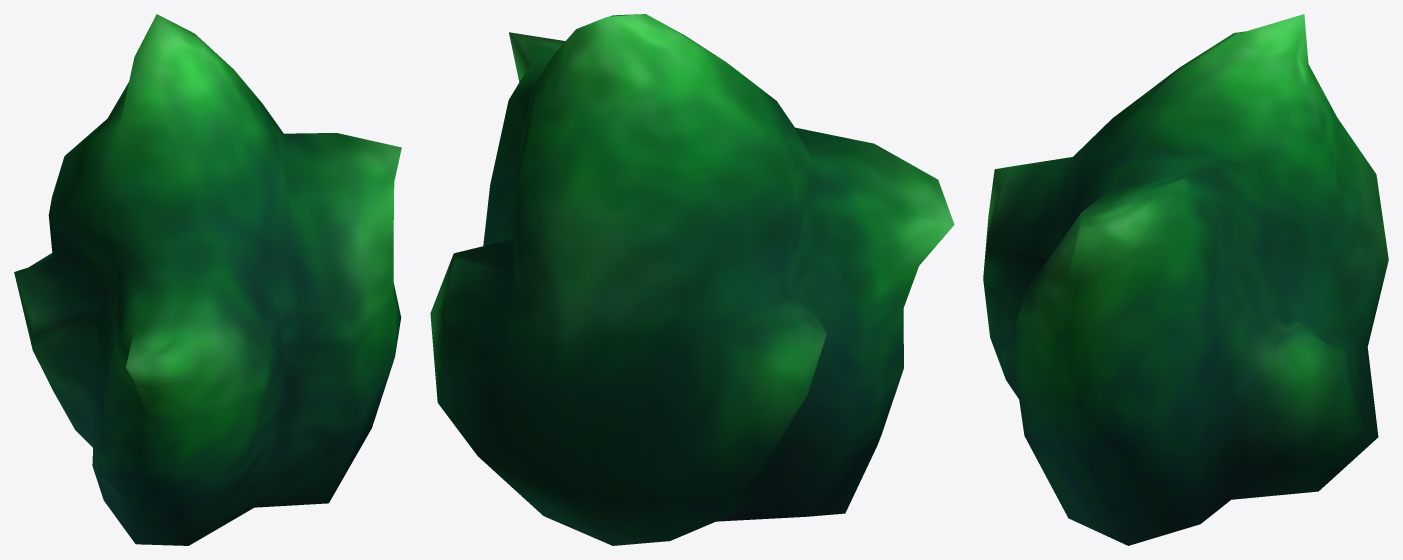
File: Bush4_DEFAULT.dae
The picture shows the model from 3 angles, left to right: view 1: azimuth 30°, elevation 25°; view 2: azimuth 150°, elevation 25°; view 3: azimuth 270°, elevation 25°; orthographic projection. The views are drawn at different scales.
Parts seen in each view (by area): view 1: mesh0; view 2: mesh0; view 3: mesh0.
Part boxes in pixels (bbox=[...]): mesh0: bbox=[14, 14, 401, 545]; mesh0: bbox=[430, 14, 954, 545]; mesh0: bbox=[983, 14, 1388, 545].
Size of the model in its own units: 0.4523 by 0.611 by 0.4524.
